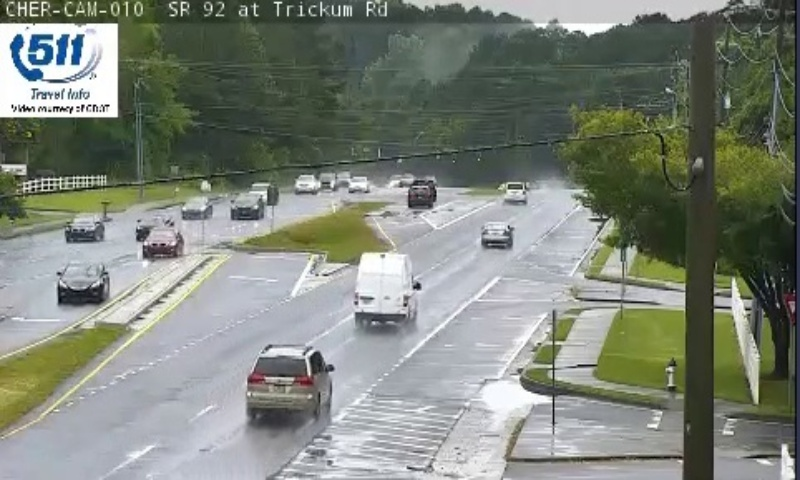car: (248, 346, 331, 407), (481, 221, 512, 243), (504, 180, 524, 202)
van: (353, 252, 414, 319)
